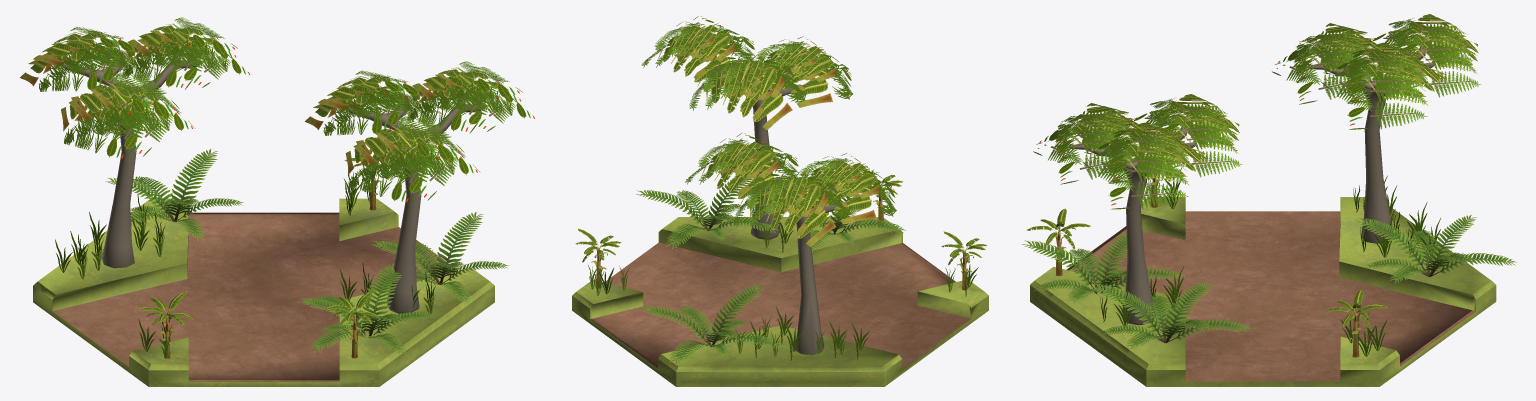
Rendered from HexTile9.fbx.
3 views of the same model, side by side, from view 1: azimuth 30°, elevation 25°; view 2: azimuth 150°, elevation 25°; view 3: azimuth 270°, elevation 25° (orthographic). The views are drawn at different scales.
Visible parts, largest first — view 1: Terrain_01.013, Tree6, plant1, plant1.002, plant1.001, grass3, bananaPlant.002; view 2: Terrain_01.013, Tree6, plant1, plant1.001, grass3, bananaPlant.002, plant1.002; view 3: Terrain_01.013, Tree6, plant1, plant1.001, plant1.002, grass3, bananaPlant.002.
Boxes of the visible parts, x1,y1,x2,y2 form: Terrain_01.013: [33, 198, 494, 386]; Tree6: [20, 17, 534, 313]; plant1: [105, 149, 243, 240]; plant1.002: [298, 263, 436, 354]; plant1.001: [370, 212, 509, 303]; grass3: [55, 174, 436, 358]; bananaPlant.002: [139, 152, 389, 358]; Terrain_01.013: [572, 217, 988, 386]; Tree6: [641, 16, 896, 354]; plant1: [639, 284, 782, 364]; plant1.001: [635, 177, 779, 248]; grass3: [588, 206, 978, 361]; bananaPlant.002: [575, 169, 987, 290]; plant1.002: [767, 169, 906, 252]; Terrain_01.013: [1030, 197, 1496, 386]; Tree6: [1033, 14, 1480, 325]; plant1: [1354, 214, 1516, 283]; plant1.001: [1090, 281, 1252, 349]; plant1.002: [1021, 233, 1184, 303]; grass3: [1100, 167, 1440, 356]; bananaPlant.002: [1027, 153, 1387, 357].
Size of the model in its own units: 1894 by 1149 by 2162.
